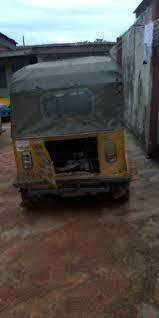keke: (7, 2, 134, 225), (5, 57, 146, 222)
